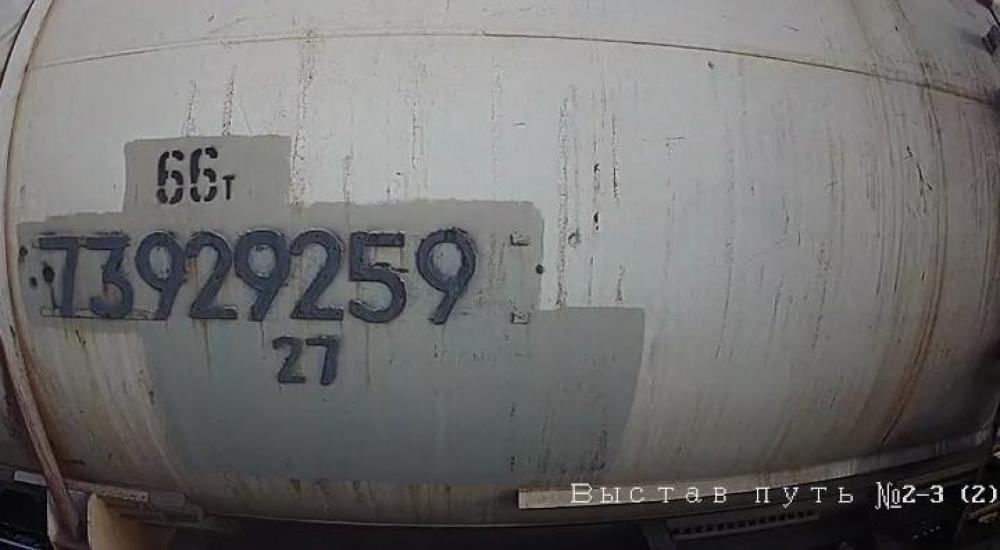Wagon-number: (33, 225, 484, 328)
